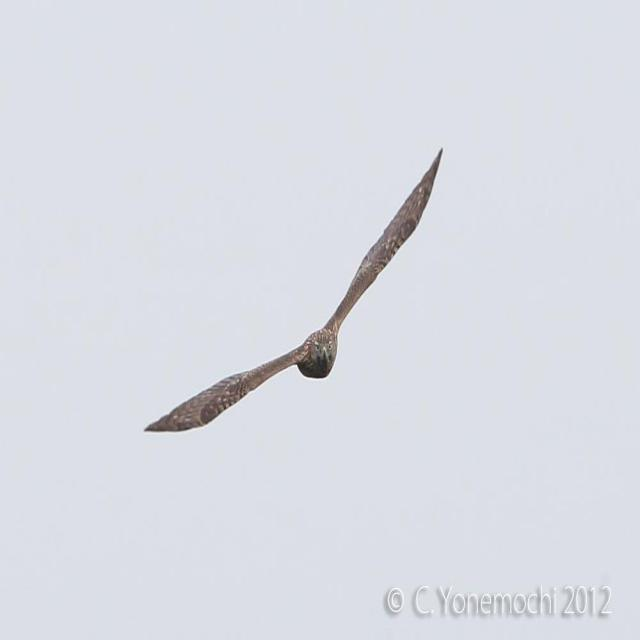bird: (135, 136, 454, 454)
